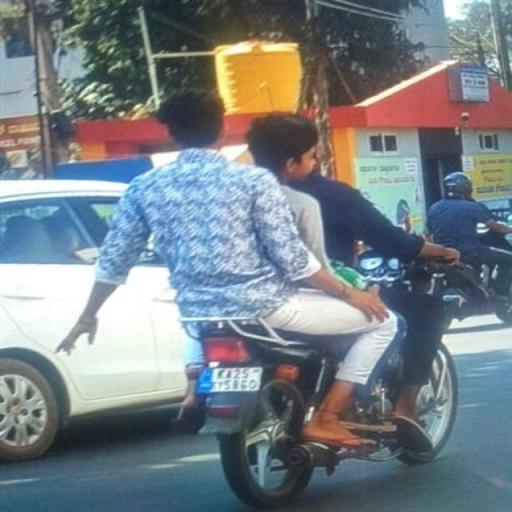tripple riding: (62, 90, 464, 317)
